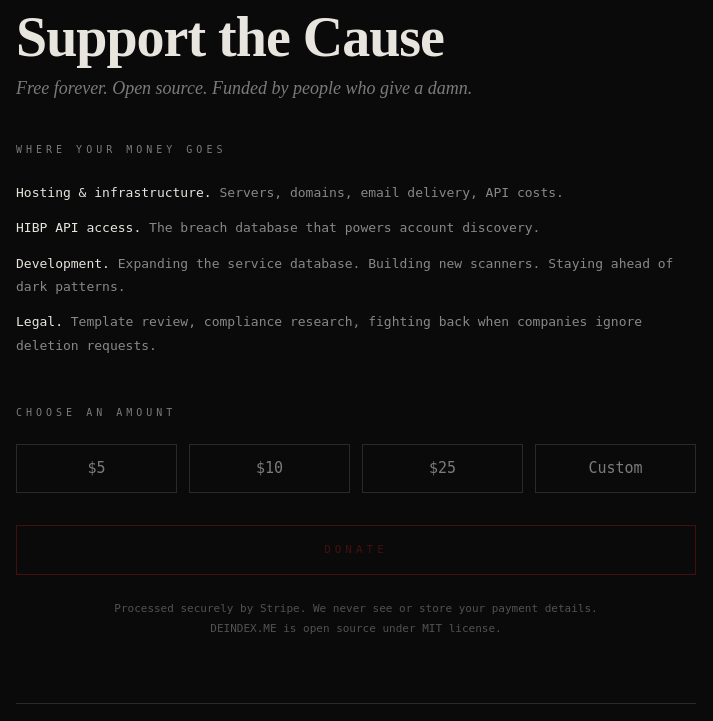
Test: DonatePage › enables donate button after selecting an amount
Click the button "$10": (270, 468) [189,444,350,493]
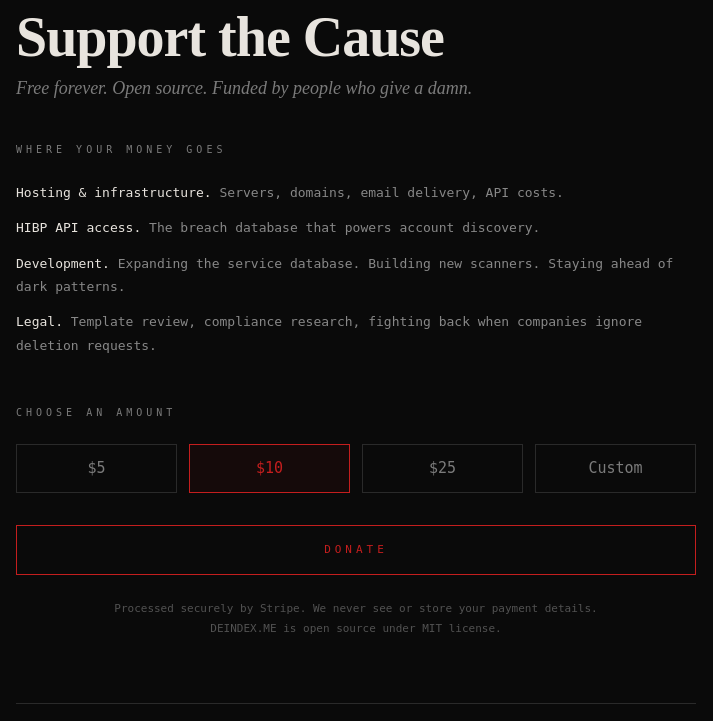
Check: the button "Donate" is enabled, box [16,525,696,575]
